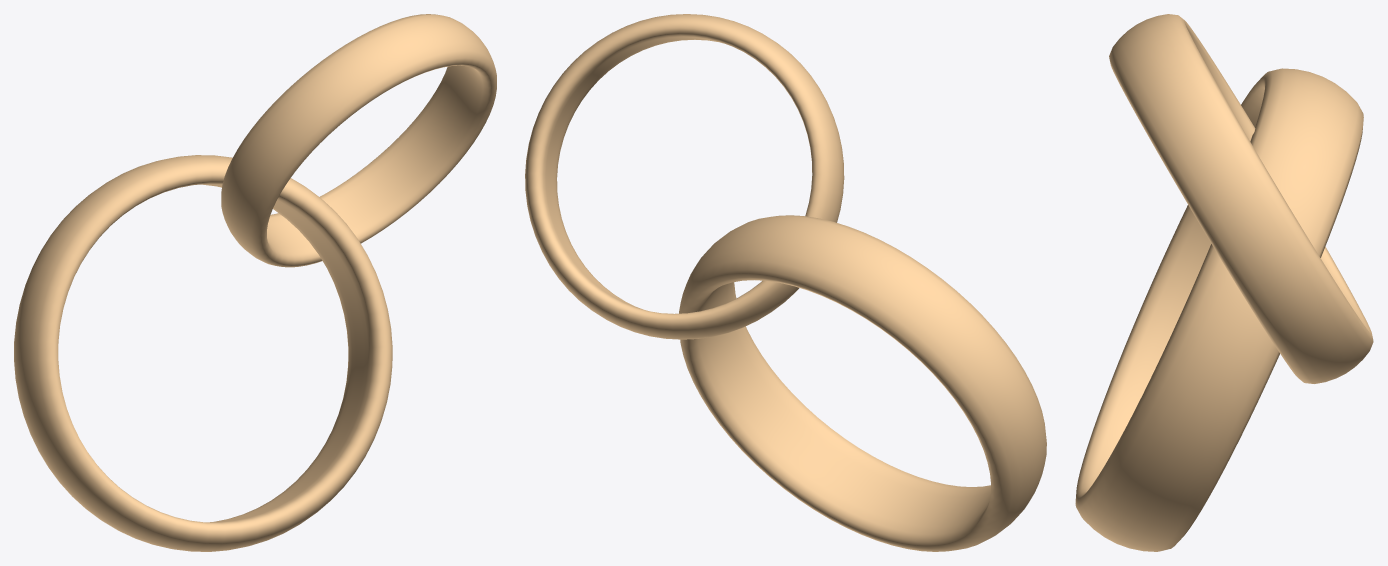
File: Rings-transformed.glb
The picture shows the model from 3 angles, left to right: view 1: azimuth 30°, elevation 25°; view 2: azimuth 150°, elevation 25°; view 3: azimuth 270°, elevation 25°; orthographic projection. The views are drawn at different scales.
Visible parts, largest first — view 1: ring_small; view 2: ring_small; view 3: ring_small.
Part boxes in pixels (x1,y1,x2,y2): ring_small: [14, 14, 496, 551]; ring_small: [525, 14, 1046, 551]; ring_small: [1075, 14, 1373, 551].
Size of the model in its own units: 0.2554 by 0.2432 by 0.1088.
